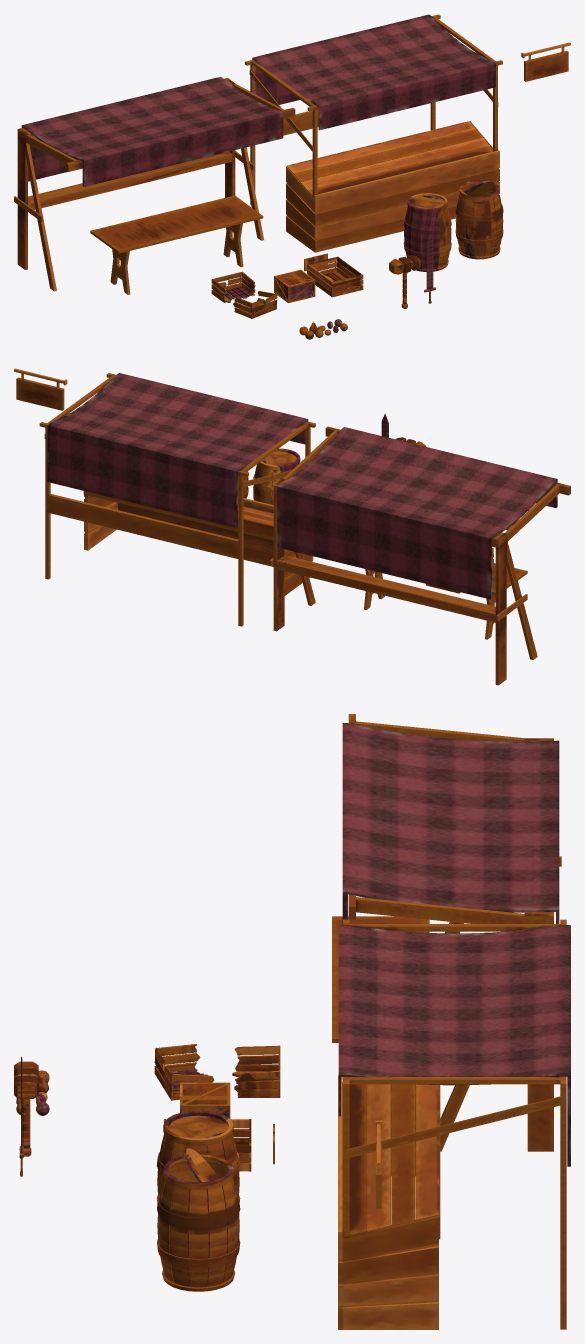
Rendered from AllModels.fbx.
3 views of the same model, one above another, from view 1: azimuth 30°, elevation 25°; view 2: azimuth 150°, elevation 25°; view 3: azimuth 270°, elevation 25° (orthographic). The views are drawn at different scales.
Visible parts, largest first — view 1: Cube.053, Cube.068, Cube.072, Cube.071, Circle.039, Circle.038, Cube.066, Cube.070, Cube.069, Cube.063, Cube.067, Plane.768 (+2 smaller); view 2: Cube.053, Cube.068, Cube.072, Cube.070, Circle.038, Cube.071; view 3: Cube.053, Cube.068, Cube.072, Circle.039, Circle.038, Cube.069, Cube.063, Cube.071, Plane.768, Cube.052, Cube.066.
Boxes of the visible parts, <box> form: Cube.053: <box>14,76,295,291</box>; Cube.068: <box>245,14,502,204</box>; Cube.072: <box>286,121,499,252</box>; Cube.071: <box>90,195,263,294</box>; Circle.039: <box>455,180,503,259</box>; Circle.038: <box>403,193,451,271</box>; Cube.066: <box>307,256,363,297</box>; Cube.070: <box>521,42,570,81</box>; Cube.069: <box>211,271,255,302</box>; Cube.063: <box>233,291,277,318</box>; Cube.067: <box>274,277,315,302</box>; Plane.768: <box>389,255,420,308</box>; Cube.053: <box>269,426,570,685</box>; Cube.068: <box>39,373,315,626</box>; Cube.072: <box>83,491,313,595</box>; Cube.070: <box>14,368,67,410</box>; Circle.038: <box>253,448,300,504</box>; Cube.071: <box>364,562,527,639</box>; Cube.053: <box>342,714,561,1151</box>; Cube.068: <box>338,919,570,1329</box>; Cube.072: <box>338,1075,440,1329</box>; Circle.039: <box>157,1154,240,1291</box>; Circle.038: <box>156,1110,240,1203</box>; Cube.069: <box>232,1045,280,1097</box>; Cube.063: <box>154,1044,214,1100</box>; Cube.071: <box>332,916,429,1042</box>; Plane.768: <box>14,1061,38,1156</box>; Cube.052: <box>180,1082,230,1106</box>; Cube.066: <box>164,1119,251,1171</box>.
Size of the model in its own units: 438 by 121 by 238.
